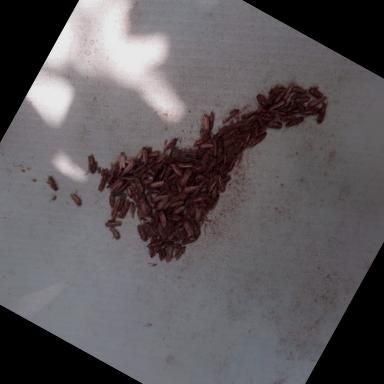pbw: (280, 112, 304, 138), (306, 90, 330, 114), (80, 152, 102, 176), (246, 128, 266, 154), (278, 77, 298, 103), (312, 100, 332, 125), (210, 138, 230, 162), (40, 173, 62, 194), (267, 79, 289, 100), (271, 98, 292, 120), (214, 170, 233, 194), (64, 190, 86, 210), (264, 116, 285, 136), (176, 166, 195, 188), (192, 189, 212, 209), (201, 108, 220, 129), (160, 242, 178, 264), (198, 148, 216, 170), (220, 106, 238, 128), (288, 91, 308, 110), (132, 224, 152, 243), (162, 207, 183, 225), (143, 234, 160, 256), (119, 159, 136, 181), (145, 238, 162, 260), (178, 231, 197, 250), (181, 180, 200, 199), (179, 220, 199, 238), (306, 84, 326, 102), (206, 138, 224, 158), (196, 115, 214, 135), (238, 105, 256, 125), (107, 200, 124, 221), (116, 200, 132, 222), (238, 132, 254, 154), (154, 211, 172, 230), (152, 221, 170, 240), (103, 216, 122, 234), (191, 133, 209, 152), (113, 151, 130, 171), (174, 159, 194, 176), (162, 136, 178, 157), (206, 192, 222, 213), (204, 174, 220, 195), (94, 174, 110, 195), (150, 191, 168, 209), (136, 148, 154, 166), (258, 108, 276, 126), (170, 189, 188, 207), (148, 176, 165, 195), (212, 124, 228, 144), (288, 82, 308, 98), (107, 168, 123, 188), (142, 194, 160, 211), (189, 206, 205, 225), (270, 90, 286, 109), (187, 222, 204, 239), (195, 140, 213, 156), (124, 202, 140, 220), (194, 172, 212, 188), (109, 179, 124, 198), (140, 172, 156, 188), (130, 178, 146, 194), (106, 227, 122, 243), (133, 146, 147, 164), (136, 170, 150, 188), (174, 245, 188, 263), (166, 162, 184, 176), (106, 162, 120, 180), (114, 194, 128, 212), (104, 194, 119, 210), (169, 196, 184, 212), (250, 109, 264, 126), (154, 150, 168, 167), (131, 161, 145, 178), (154, 196, 168, 213), (155, 246, 169, 262), (124, 156, 140, 170), (142, 160, 156, 176), (156, 164, 170, 180), (206, 187, 222, 201), (233, 140, 246, 157), (156, 242, 170, 257), (121, 172, 136, 186), (163, 198, 176, 214), (171, 204, 185, 218), (147, 148, 160, 161), (122, 188, 134, 200), (144, 206, 154, 216)
